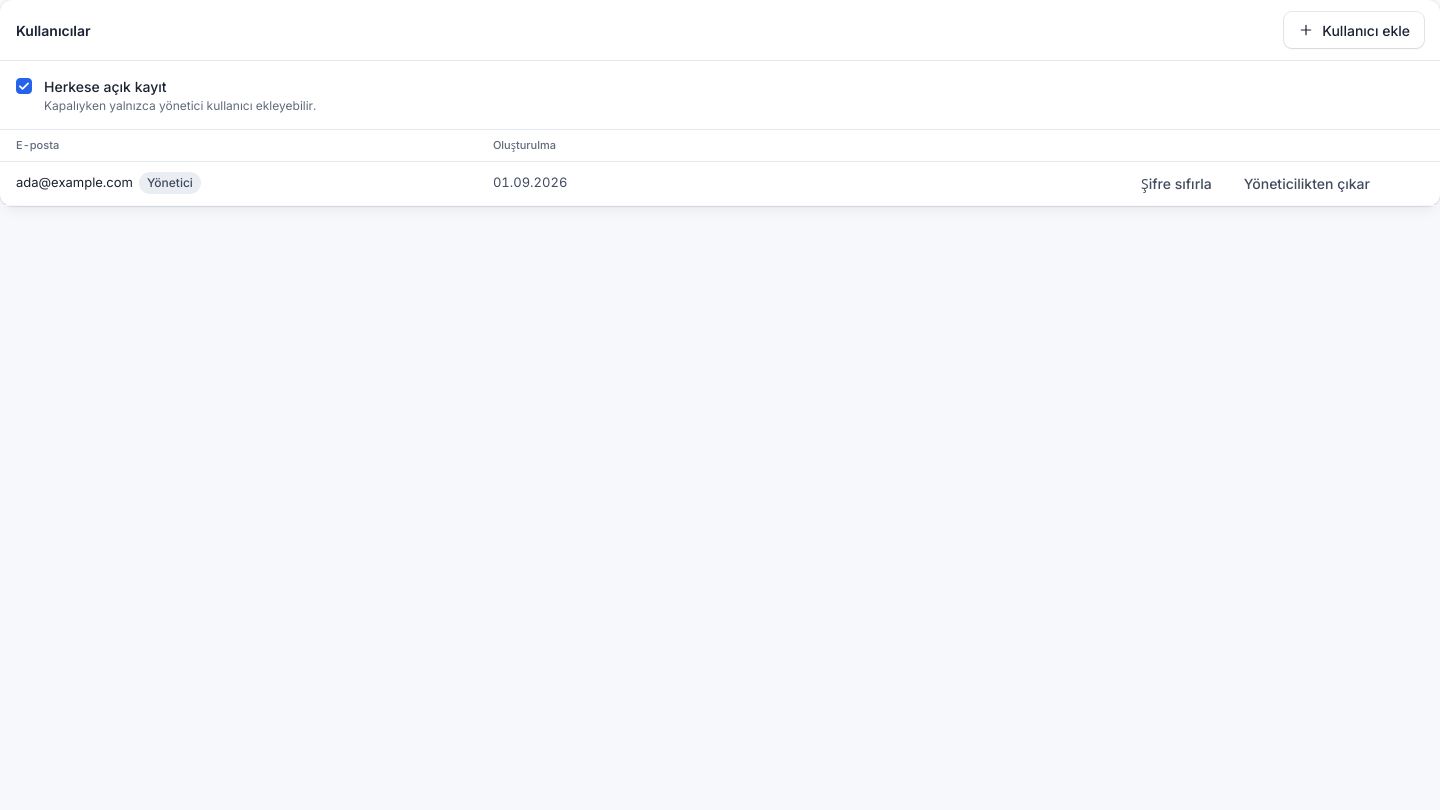
Test: UsersSection › refetches the list after adding a user and translates the last admin error
Expected: the text "ada@example.com" is shown, 16,173 -> 133,193
Expected: the text "bob@example.com" is not shown
Click the button "Kullanıcı ekle" at (1354, 30), box 1284,12 -> 1424,48
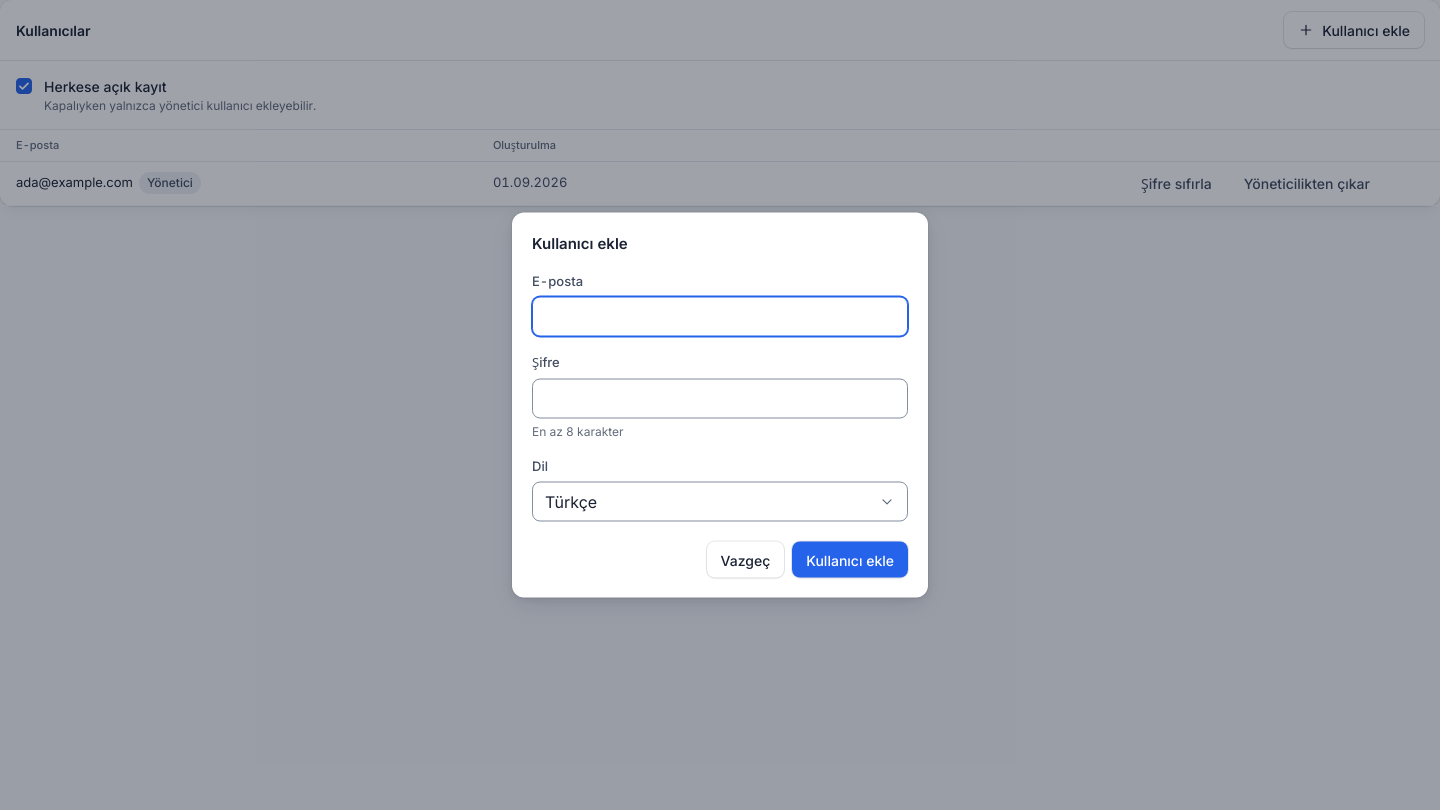
Note: Named by its heading, not just any dialog.
Type "bob@example.com" into the field labelled "E-posta" at (720, 316), box 532,296 -> 908,336
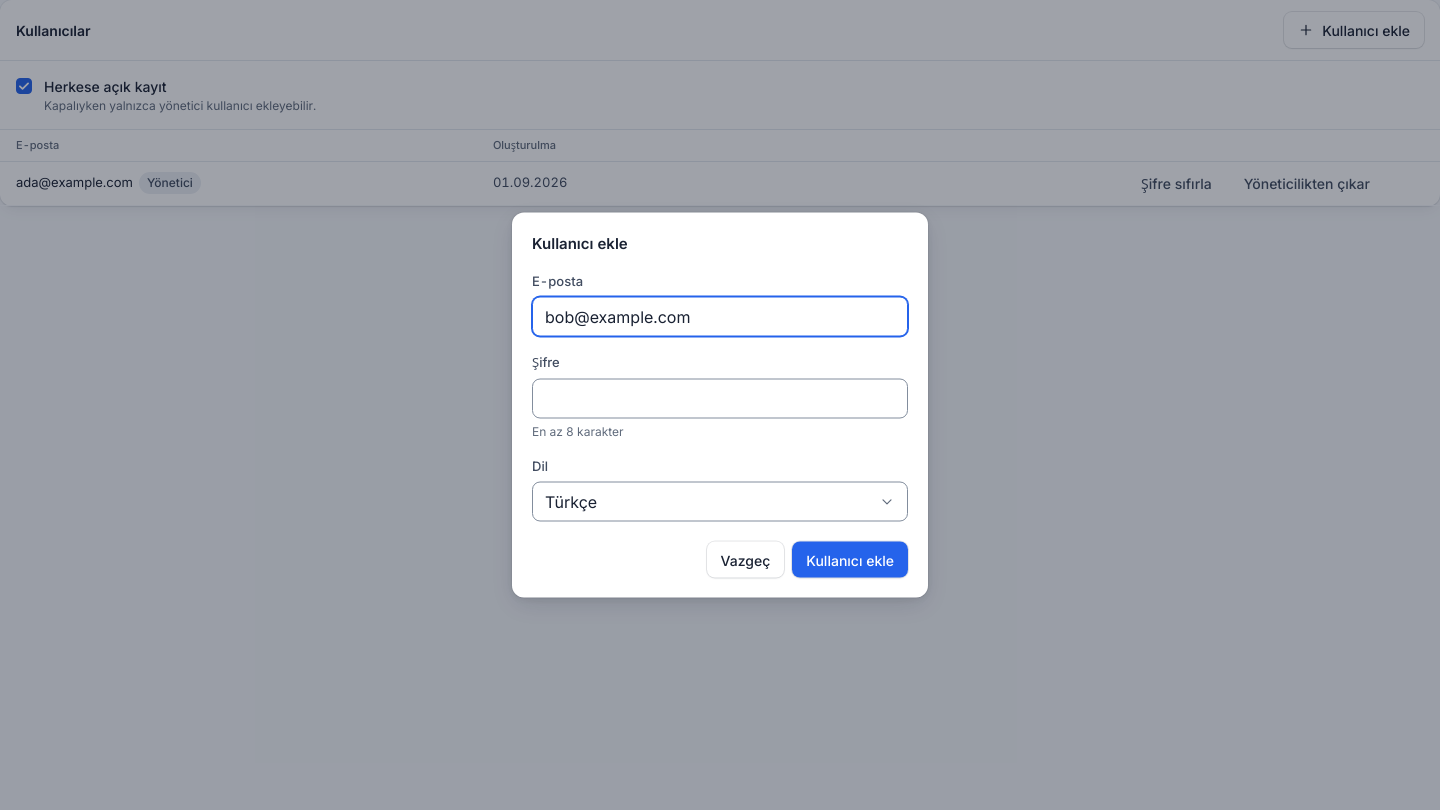
Type "hunter22!" into the password field labelled "Şifre" at (720, 398), box 532,378 -> 908,418
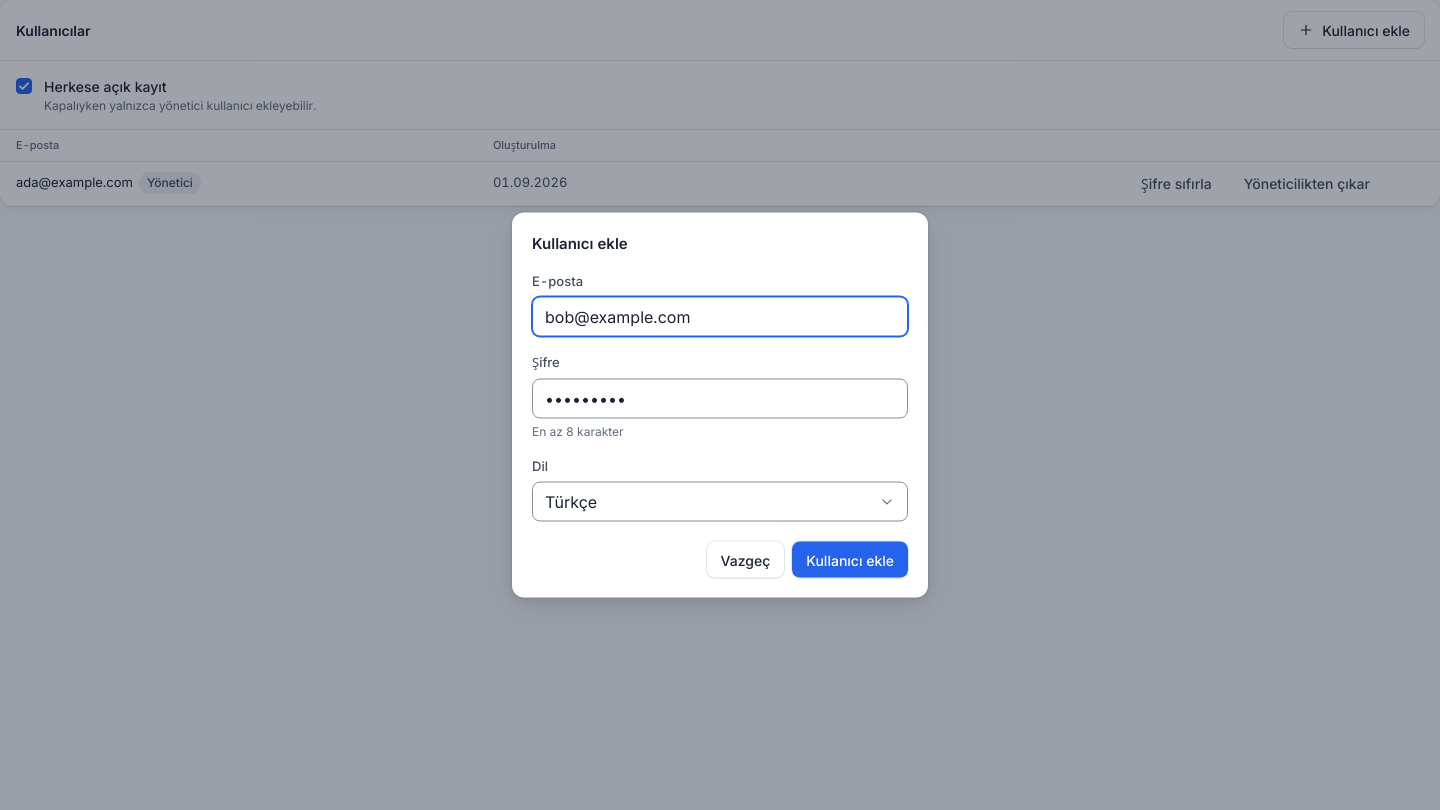
Click the button "Kullanıcı ekle" at (850, 560), box 792,542 -> 908,578
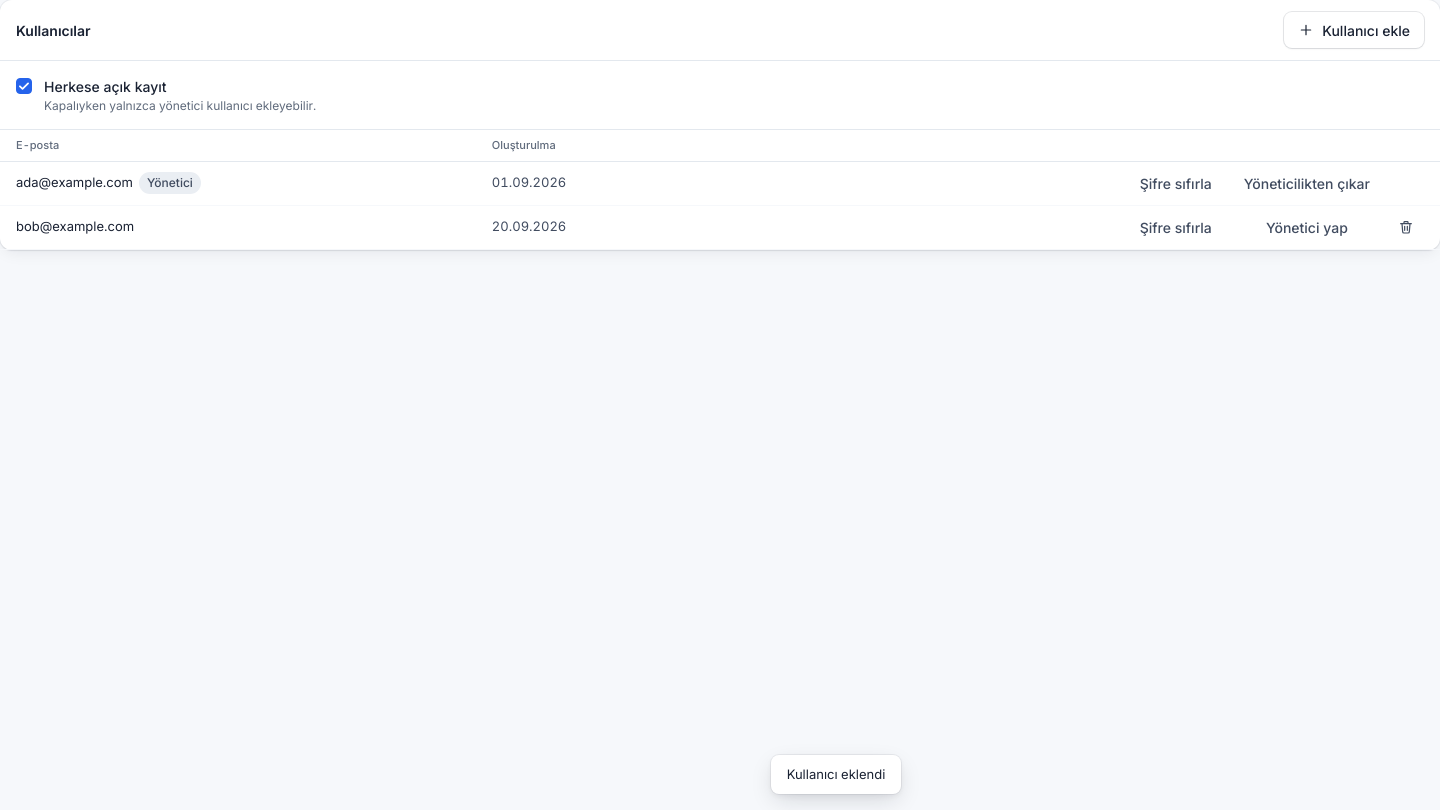
Expected: the text "bob@example.com" is shown, 16,217 -> 134,237
Click the button with aria-label "ada@example.com kullanıcısını yöneticilikten çıkar" at (1307, 183), box 1230,165 -> 1384,201
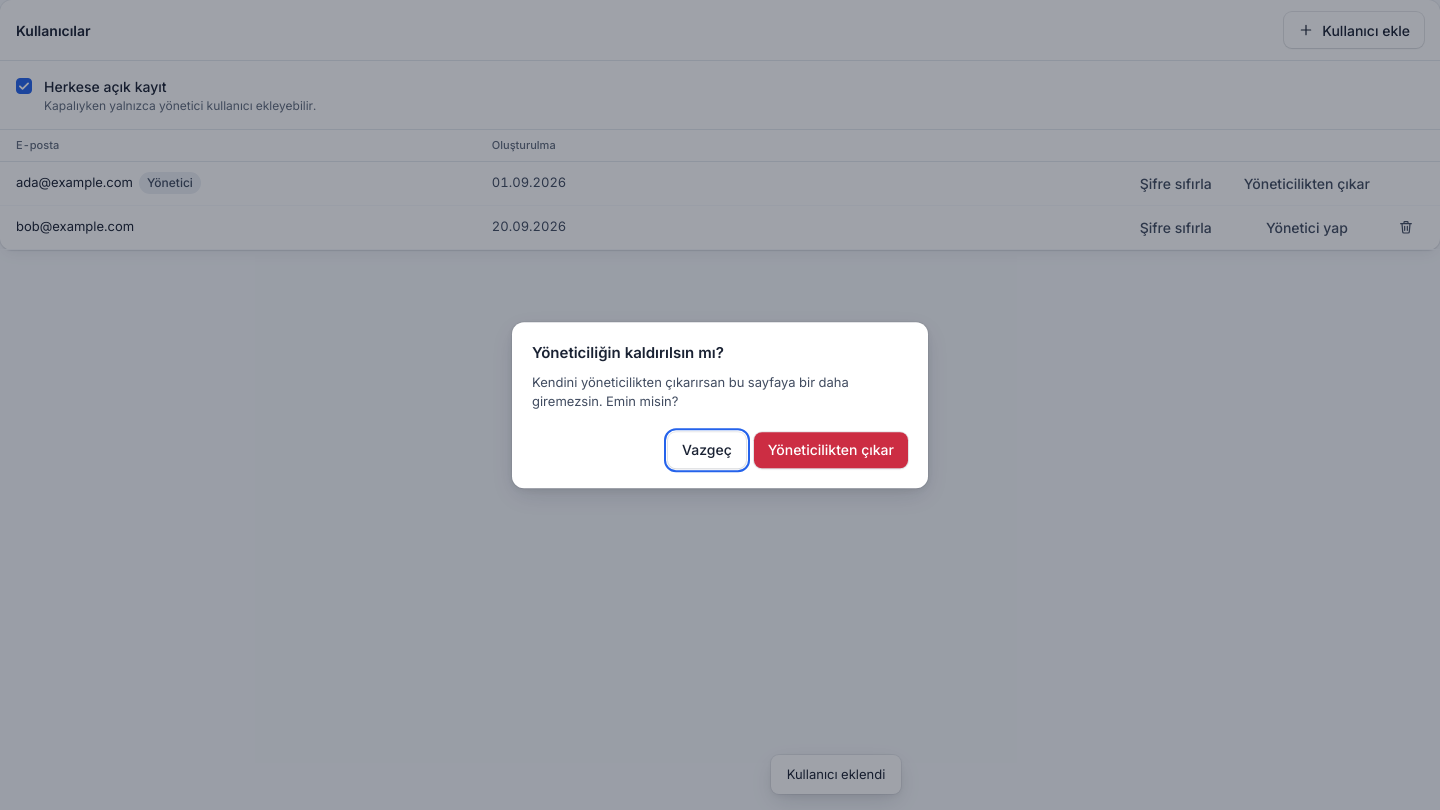
Click the button "Yöneticilikten çıkar" at (831, 450), box 754,432 -> 908,468
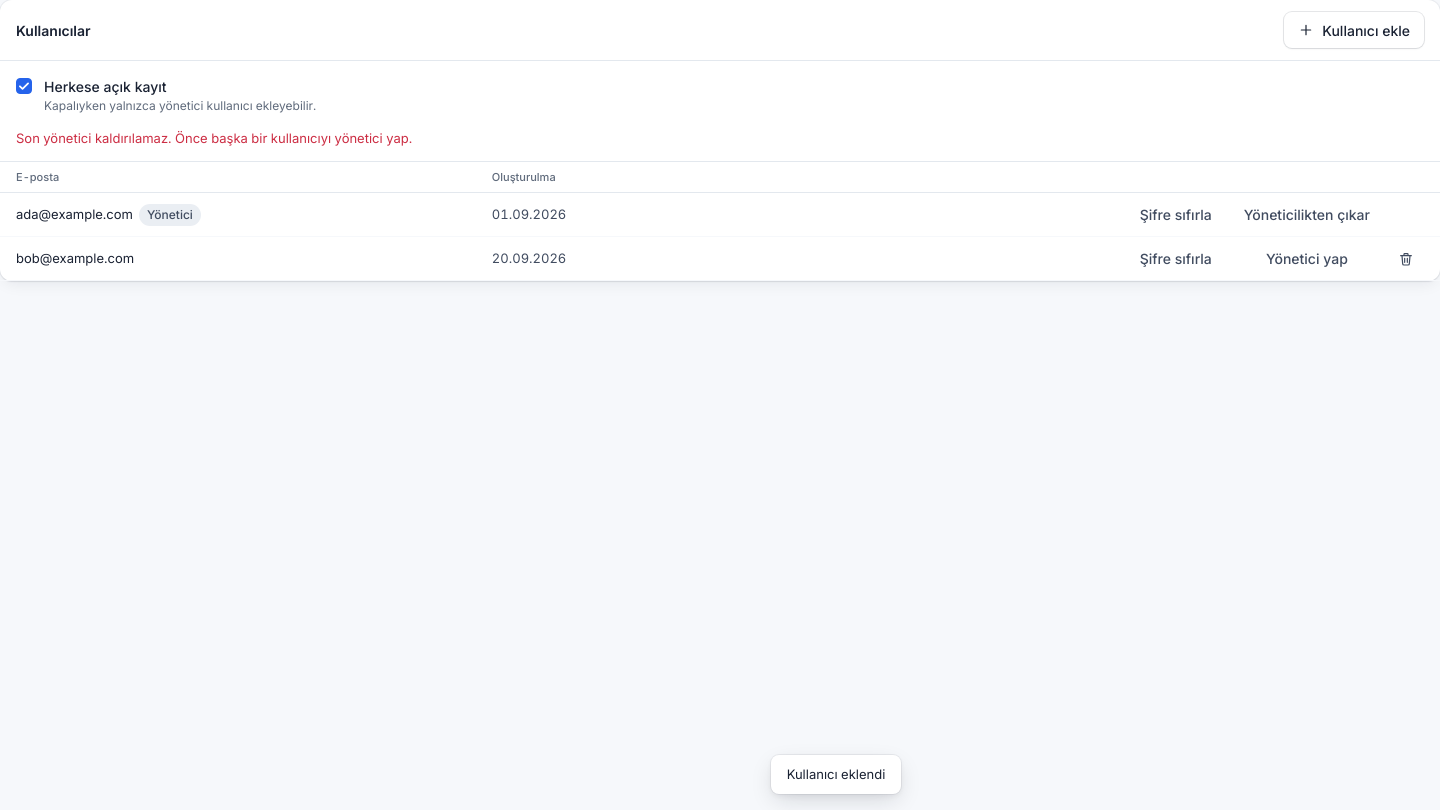
Expected: the text "Son yönetici kaldırılamaz. Önce başka bir kullanıcıyı yönetici yap." is shown, 16,130 -> 412,146
